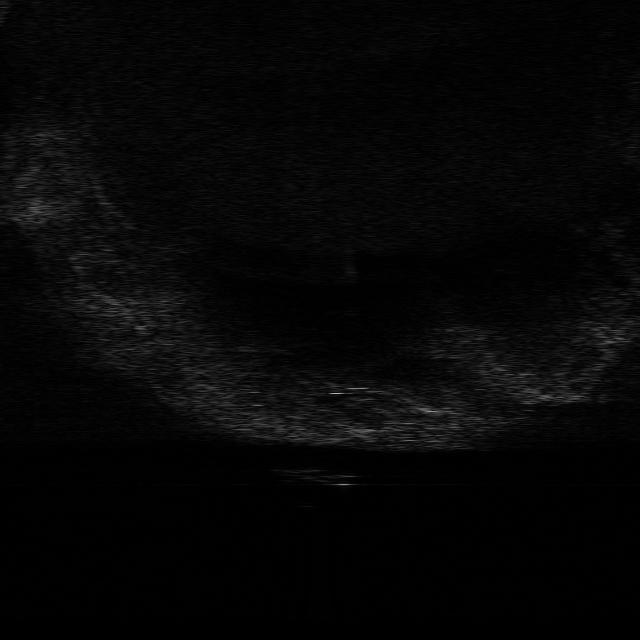plane: (271, 467, 360, 487)
